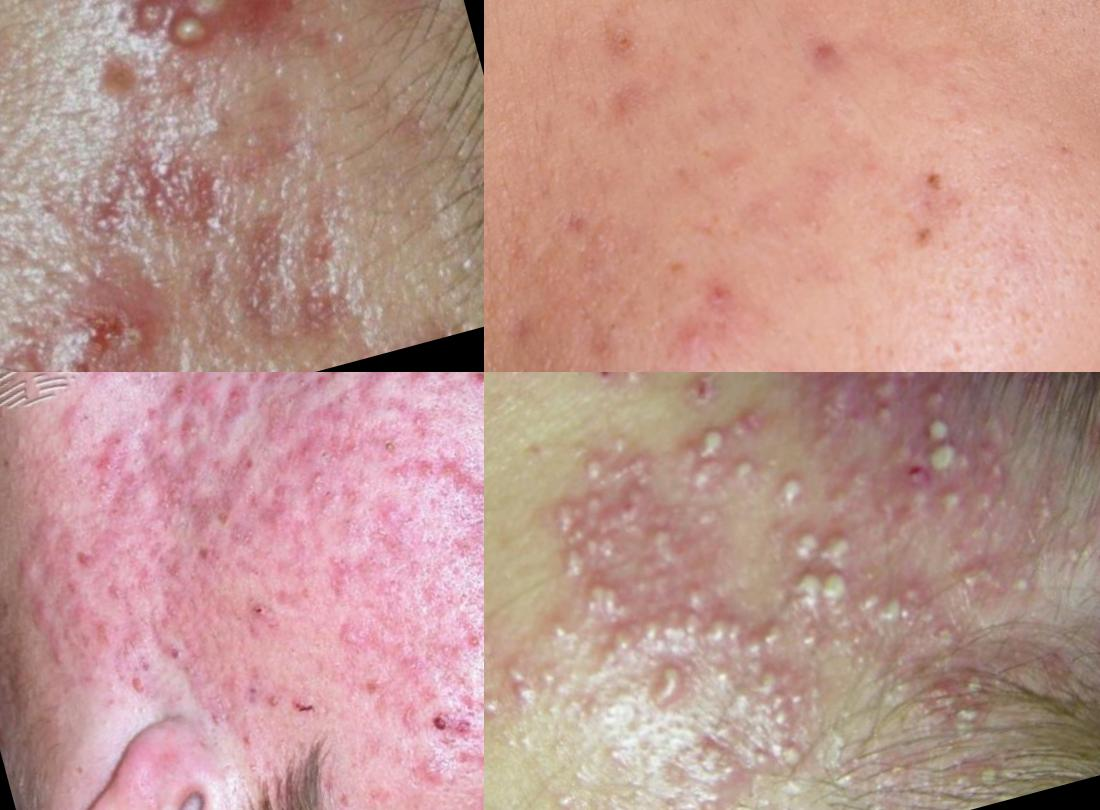papular: (68, 281, 149, 364), (75, 398, 147, 484), (219, 570, 296, 647), (413, 685, 485, 749), (322, 603, 378, 668), (6, 547, 62, 601), (162, 407, 214, 456), (90, 609, 131, 658)
purulent: (545, 470, 679, 625), (919, 461, 1058, 602), (626, 722, 772, 810), (723, 657, 830, 777), (764, 510, 880, 617), (914, 668, 1027, 760), (663, 415, 769, 511), (848, 578, 958, 663), (485, 638, 587, 722), (807, 373, 914, 437), (699, 605, 787, 674), (604, 609, 691, 667), (909, 425, 978, 489), (638, 648, 710, 702), (563, 442, 623, 500), (769, 462, 829, 516), (912, 403, 970, 454), (615, 373, 680, 410), (172, 14, 214, 57), (115, 1, 179, 29), (193, 1, 228, 17)
whitehead: (180, 86, 254, 145), (288, 462, 347, 511), (405, 438, 458, 489), (455, 602, 485, 660), (453, 373, 485, 402)
